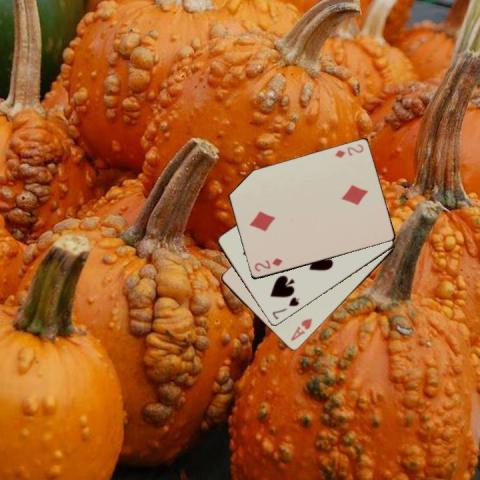2d: (252, 255, 284, 274), (332, 142, 365, 160)
7s: (269, 294, 301, 321)
Ah: (288, 315, 314, 343)
